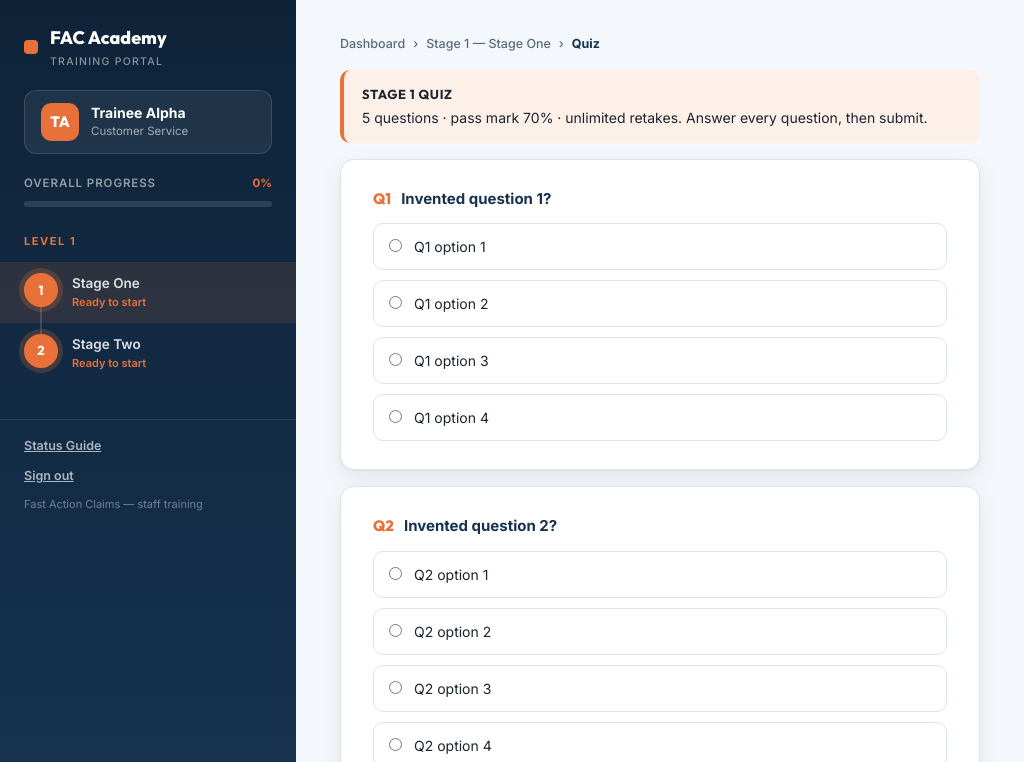
Quiz attempt › never moves the page when an answer is selected
(page scrolled)
Expected: the text "Invented question 1?" is shown, [401,189,551,208]
Click the radio button labelled "Q1 option 1" at coordinates (396, 246), box [389,239,402,252]
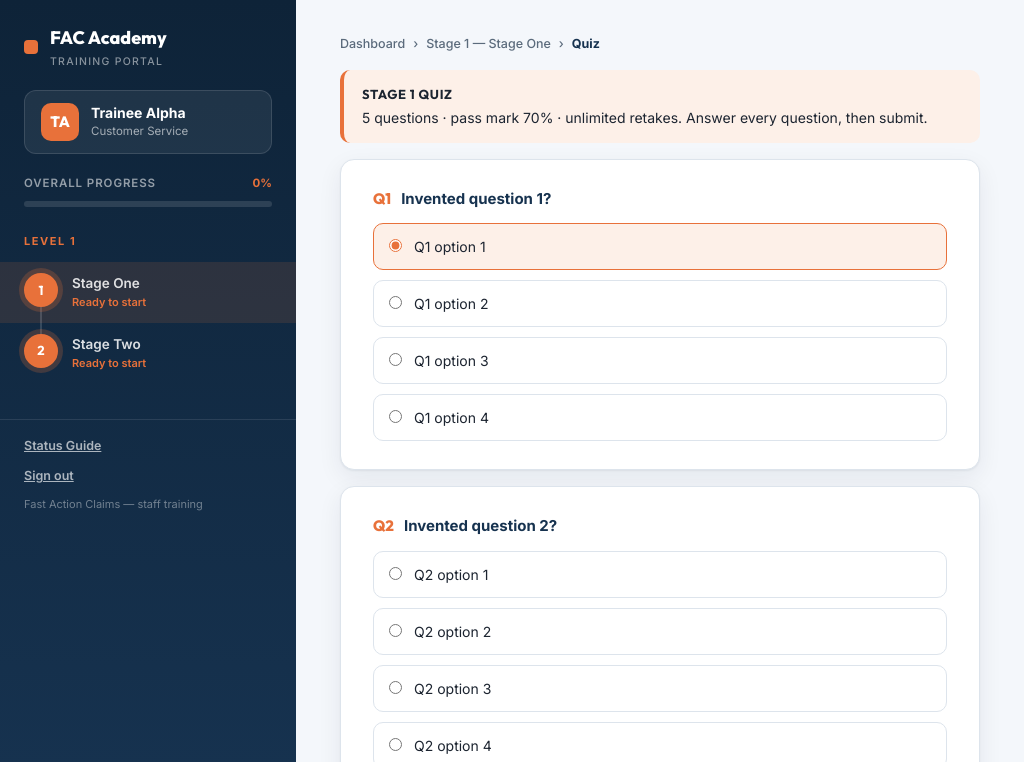
Click the radio button labelled "Q2 option 1" at coordinates (396, 574), box [389,567,402,580]
(page scrolled)
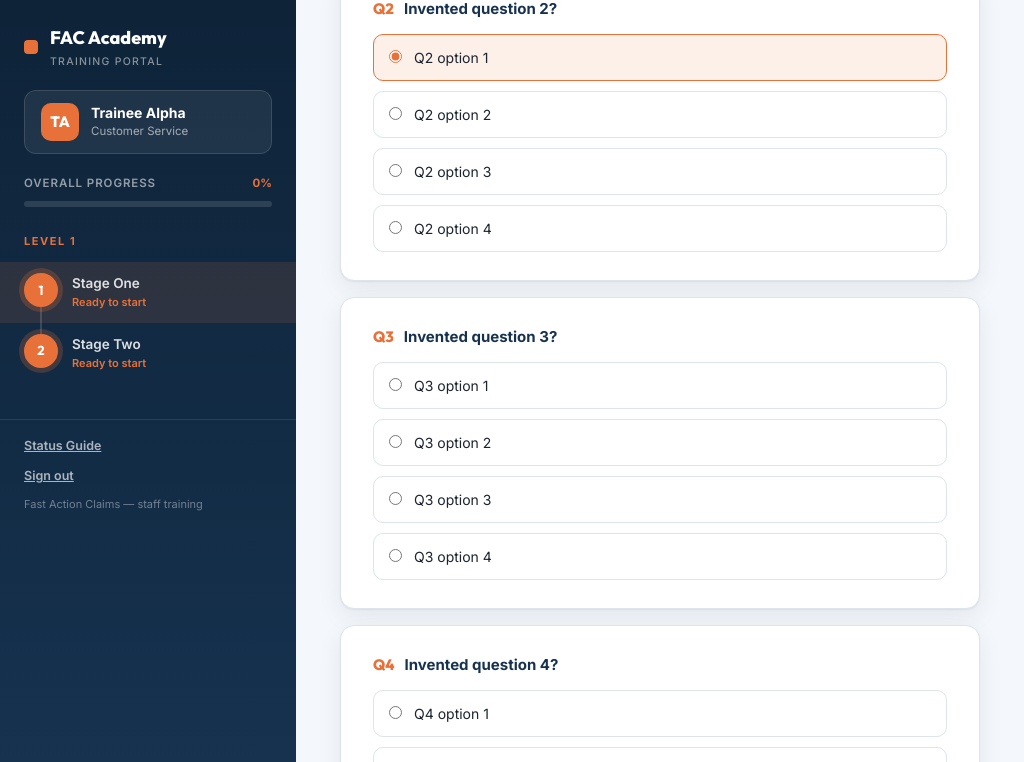
Click the radio button labelled "Q3 option 1" at coordinates (396, 384), box [389,378,402,391]
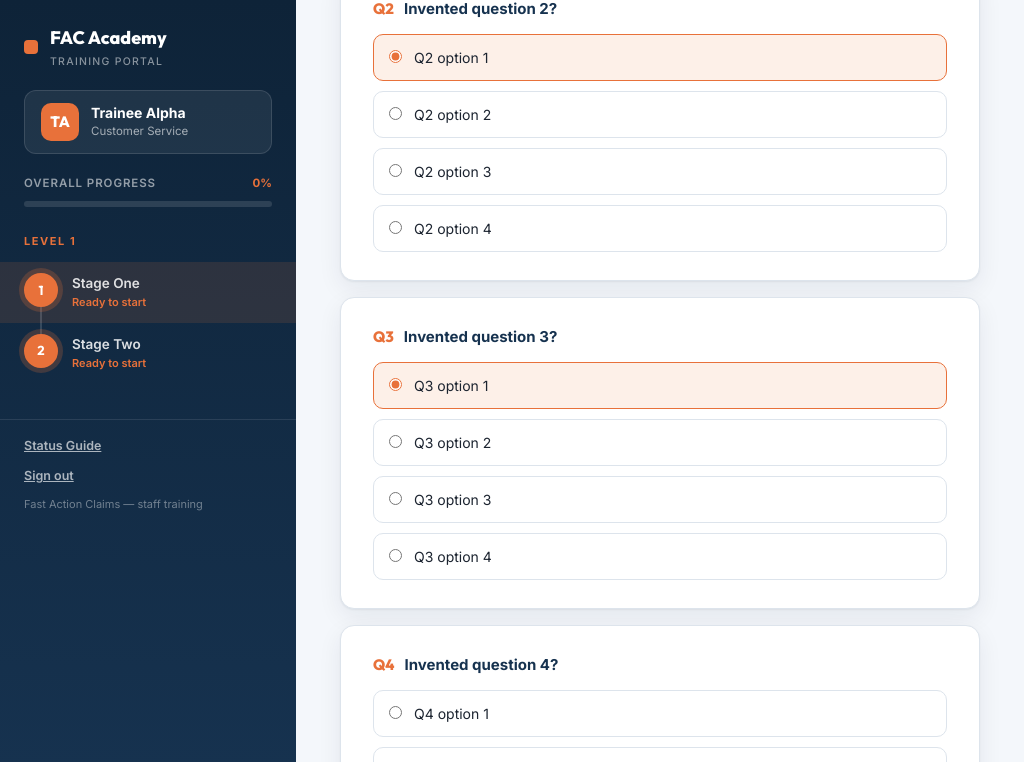
Click the radio button labelled "Q4 option 1" at coordinates (396, 712), box [389,706,402,719]
(page scrolled)
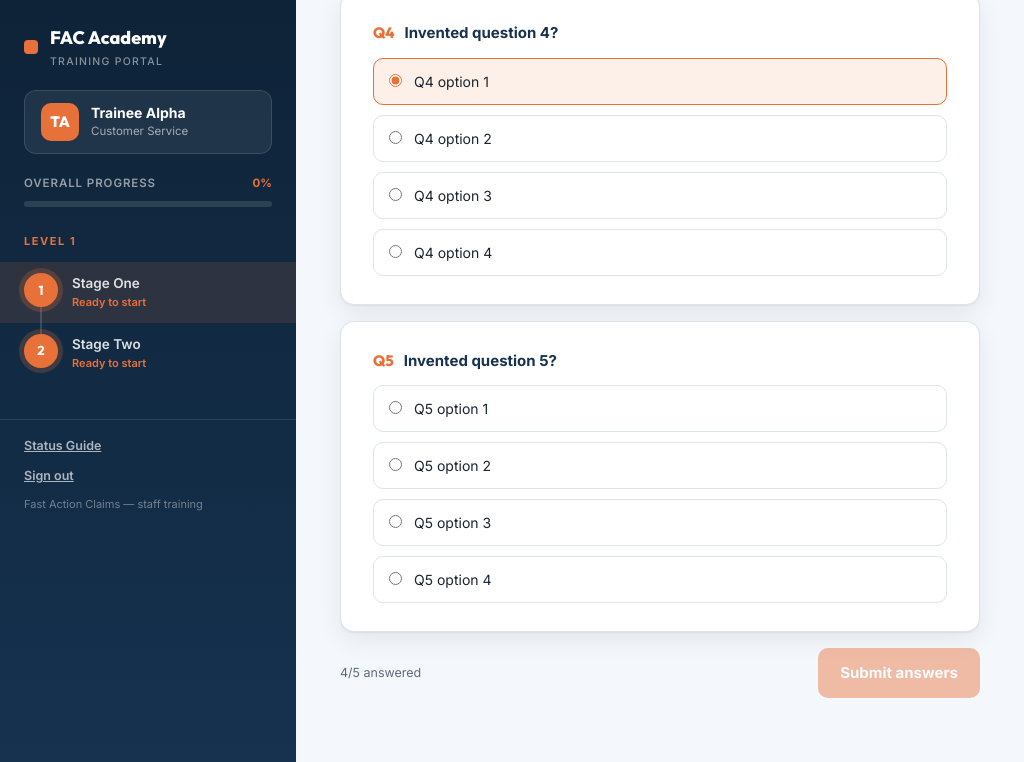
Click the radio button labelled "Q5 option 1" at coordinates (396, 408), box [389,401,402,414]
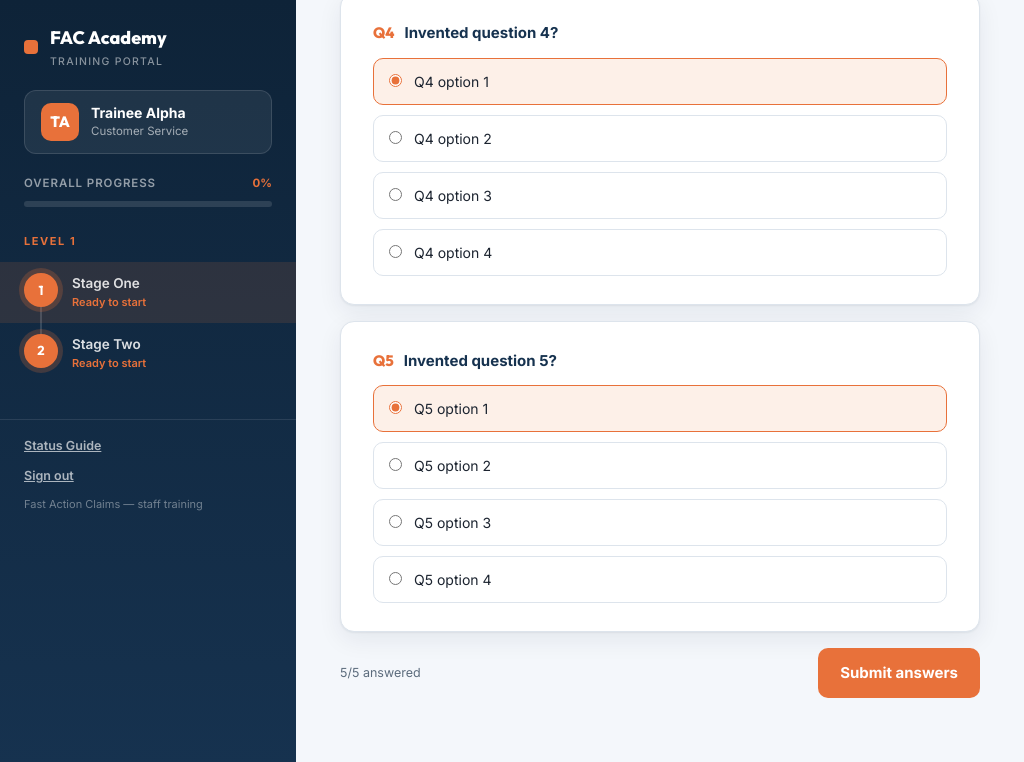
Result: the text "5/5 answered" is shown at [340,663,421,683]
